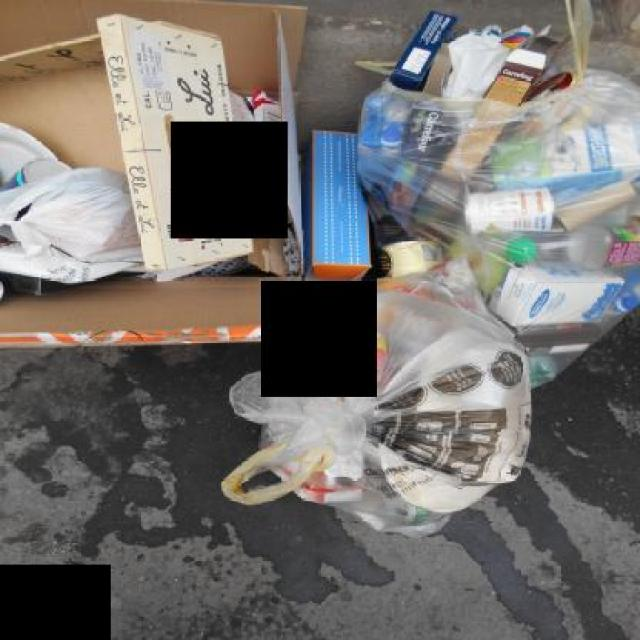plastic bag: (354, 0, 638, 389), (218, 285, 532, 543)
